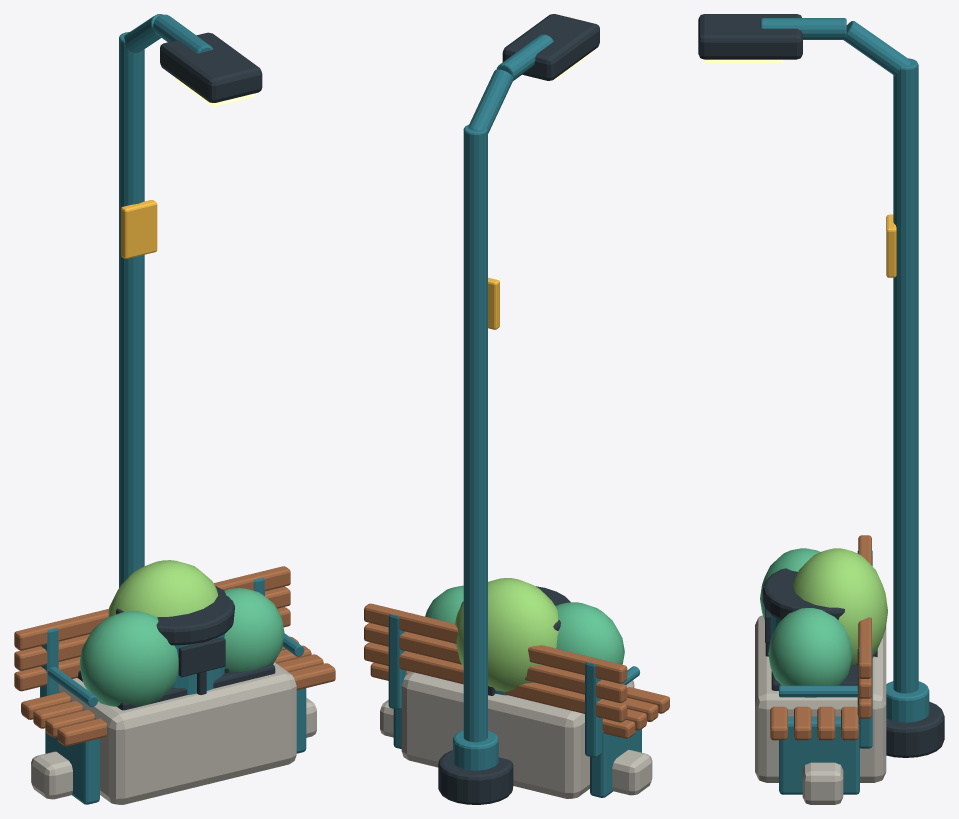
Rendered from SM_SolCity_UrbanProps_01.fbx.
3 renders of one model, left to right at view 1: azimuth 30°, elevation 25°; view 2: azimuth 150°, elevation 25°; view 3: azimuth 270°, elevation 25°, orthographic. The views are drawn at different scales.
Visible parts, largest first — view 1: SM_SolCity_Planter_01, SM_SolCity_StreetLamp_01, SM_SolCity_Bench_01, SM_SolCity_TrashBin_01, SM_SolCity_ParkingWheelStop_01; view 2: SM_SolCity_StreetLamp_01, SM_SolCity_Planter_01, SM_SolCity_Bench_01, SM_SolCity_ParkingWheelStop_01; view 3: SM_SolCity_StreetLamp_01, SM_SolCity_Planter_01, SM_SolCity_Bench_01, SM_SolCity_TrashBin_01, SM_SolCity_ParkingWheelStop_01.
Part boxes in pixels (x1,y1,x2,y2): SM_SolCity_Planter_01: (58, 560, 296, 804); SM_SolCity_StreetLamp_01: (119, 14, 262, 587); SM_SolCity_Bench_01: (14, 566, 335, 804); SM_SolCity_TrashBin_01: (116, 586, 234, 694); SM_SolCity_ParkingWheelStop_01: (31, 697, 316, 799); SM_SolCity_StreetLamp_01: (438, 14, 599, 804); SM_SolCity_Planter_01: (401, 578, 634, 798); SM_SolCity_Bench_01: (364, 603, 669, 797); SM_SolCity_ParkingWheelStop_01: (380, 699, 652, 795); SM_SolCity_StreetLamp_01: (698, 14, 944, 757); SM_SolCity_Planter_01: (755, 548, 887, 782); SM_SolCity_Bench_01: (770, 535, 872, 794); SM_SolCity_TrashBin_01: (762, 568, 877, 664); SM_SolCity_ParkingWheelStop_01: (802, 762, 843, 804).
Size of the model in its own units: 1.82 by 1.46 by 4.74.
